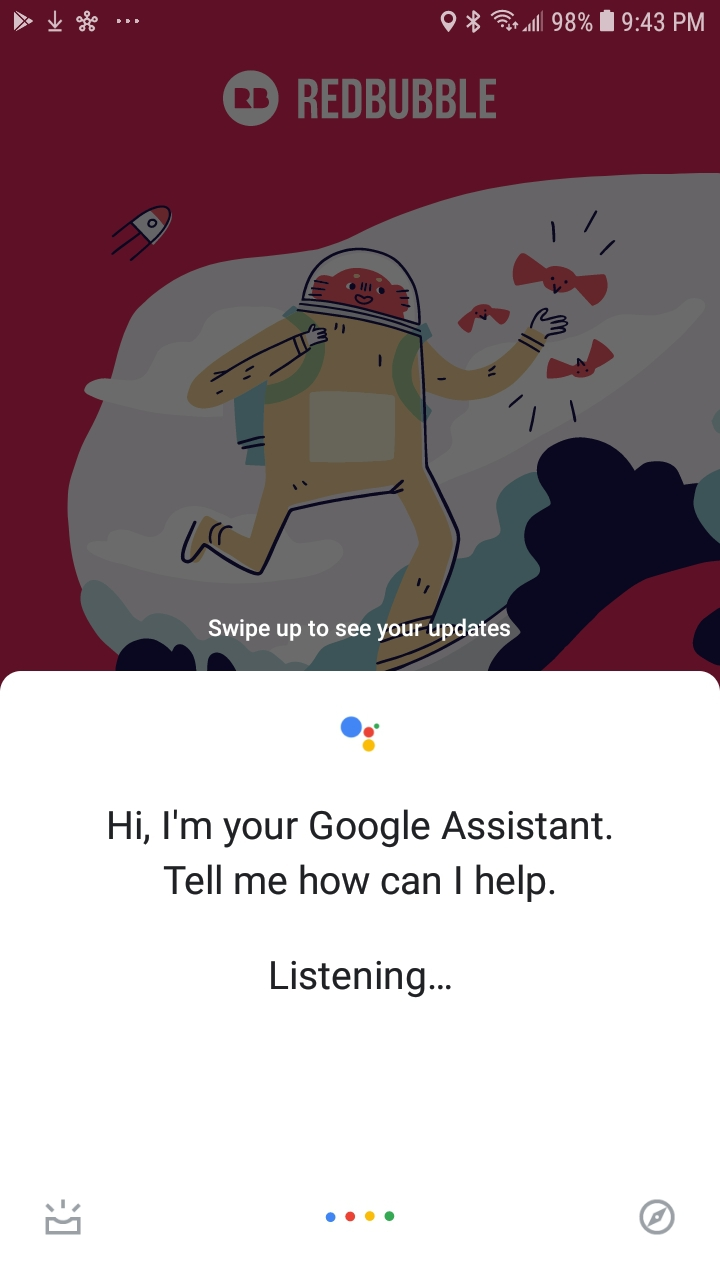Icon: (640, 1199, 676, 1235)
Image: (341, 716, 381, 753), (45, 1198, 83, 1236)
Modal: (1, 673, 720, 1280)
PageIndicator: (325, 1210, 396, 1222)
Text: (108, 809, 612, 905), (208, 618, 510, 642), (271, 960, 451, 998)
UpperTaskBar: (1, 1, 720, 34)
